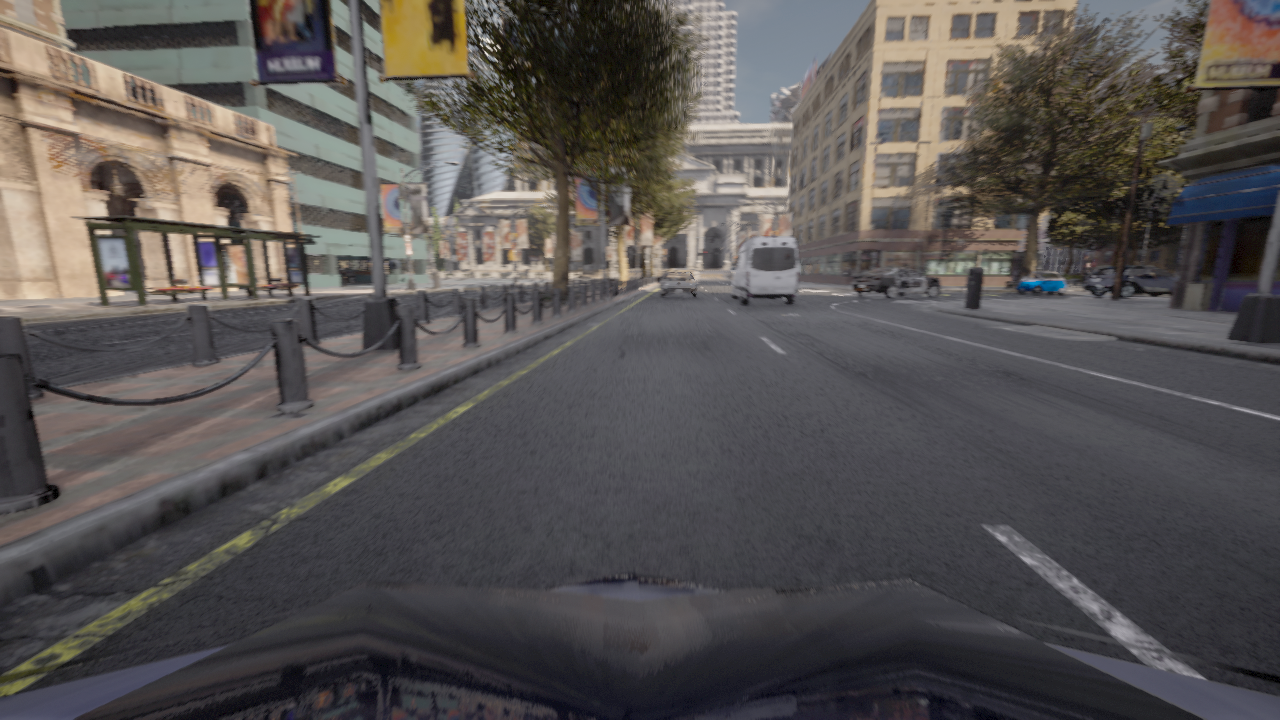cyclist: (0, 569, 1279, 719), (730, 236, 798, 304), (1083, 265, 1178, 297), (852, 265, 940, 297), (1016, 271, 1065, 294), (660, 272, 697, 296), (337, 269, 355, 282)
